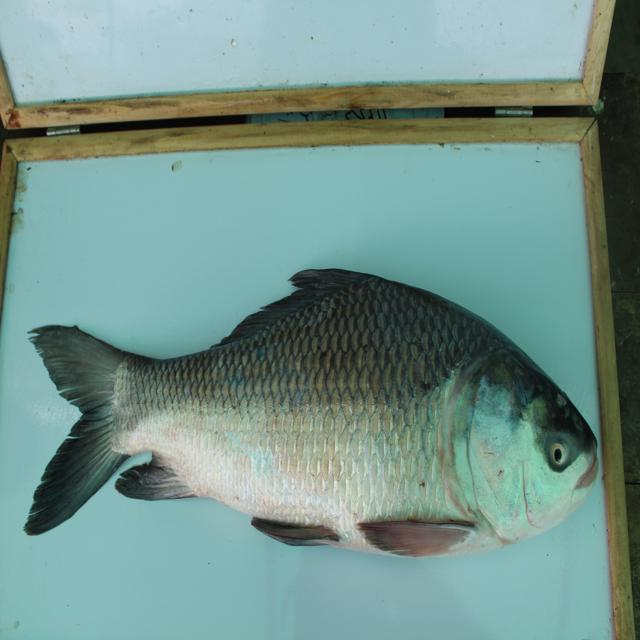Indian Carp: (19, 268, 596, 567)
